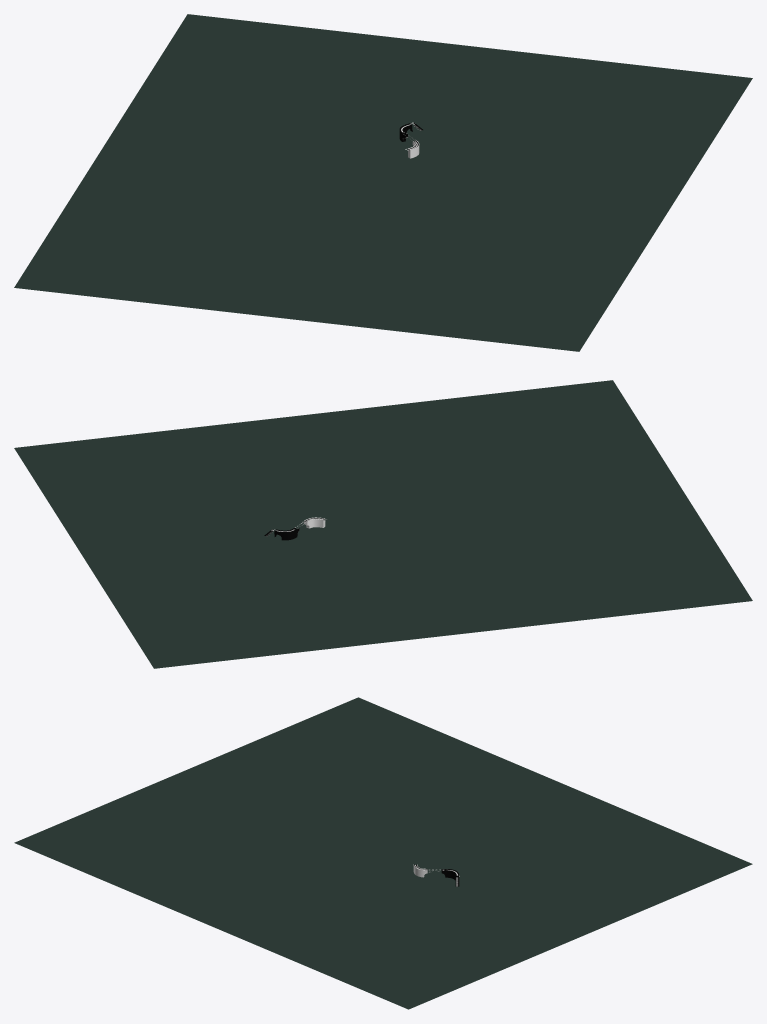
File: Geo Chunk.fbx
The picture shows the model from 3 angles, top to bottom: view 1: azimuth 30°, elevation 25°; view 2: azimuth 150°, elevation 25°; view 3: azimuth 270°, elevation 25°; orthographic projection. The views are drawn at different scales.
Visible parts, largest first — view 1: BG Plane; view 2: BG Plane; view 3: BG Plane.
Part boxes in pixels (x1,y1,x2,y2): BG Plane: [14, 14, 752, 351]; BG Plane: [14, 380, 752, 668]; BG Plane: [14, 697, 752, 1009].
Bounding box in the file's own units: 211 × 14.16 × 211.
Materials: 3 (2 with a texture image).
